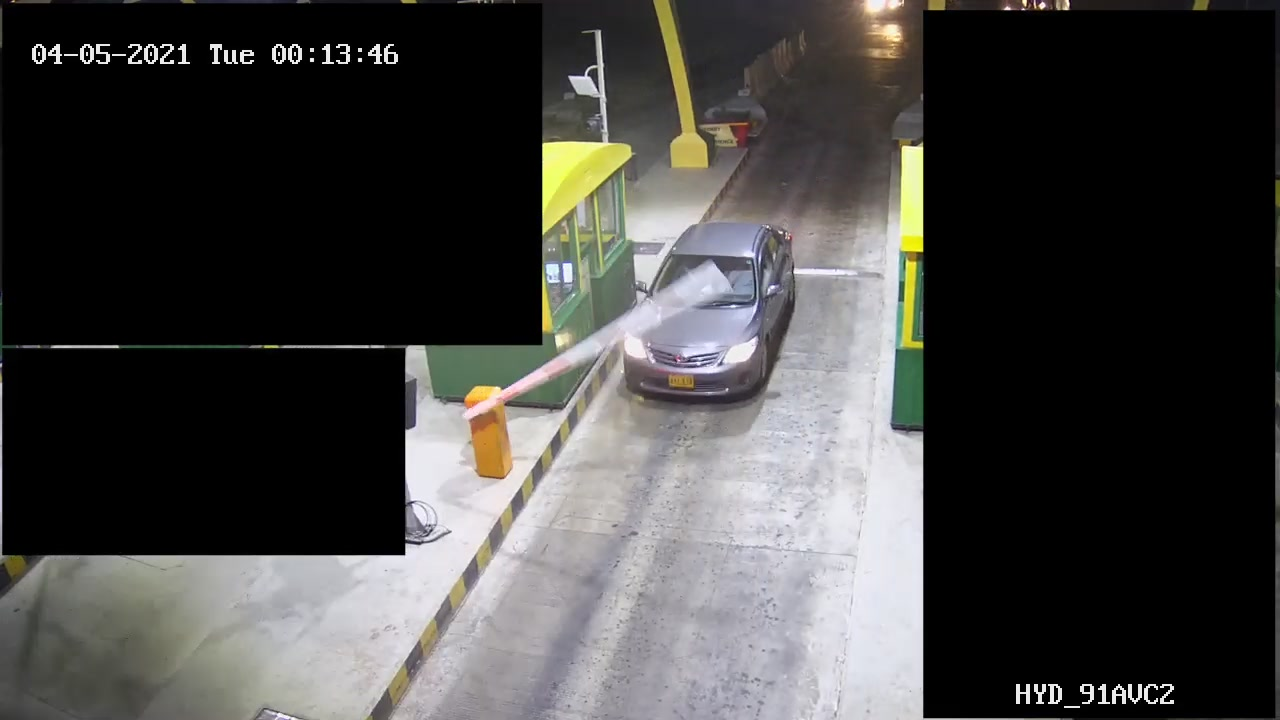F1: (607, 216, 803, 412)
